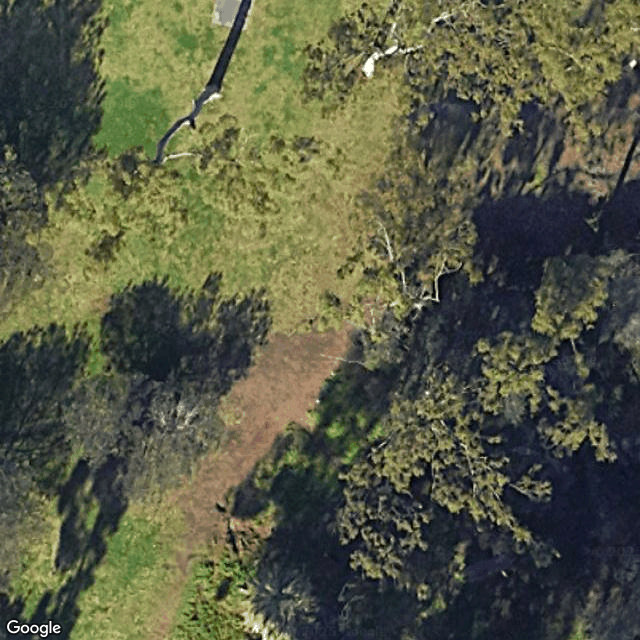palm: (240, 560, 322, 640)
